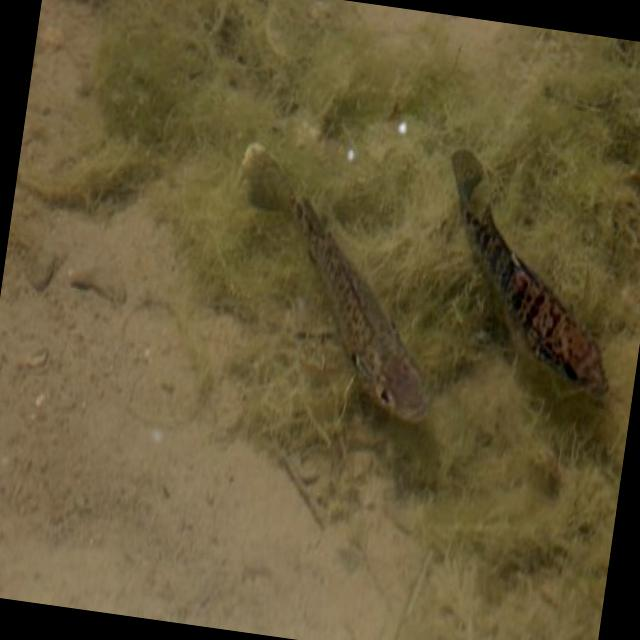Gunes Levregi: (192, 132, 459, 448)
